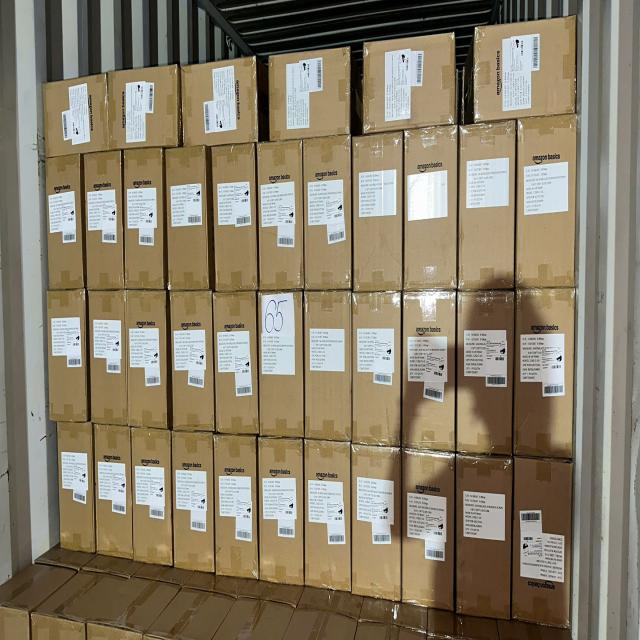Carton: (467, 15, 572, 117), (519, 115, 578, 291), (364, 34, 462, 138), (518, 284, 576, 458), (517, 458, 575, 631), (460, 124, 516, 295), (459, 292, 516, 458), (458, 454, 514, 619), (404, 125, 457, 291), (402, 452, 455, 616), (403, 291, 456, 452), (352, 134, 402, 292), (351, 443, 401, 600), (270, 51, 352, 146), (350, 292, 400, 447), (302, 140, 350, 292), (308, 292, 355, 444), (303, 440, 350, 590), (259, 144, 306, 292), (259, 440, 305, 589), (260, 293, 306, 438), (212, 147, 257, 294), (180, 62, 254, 151), (212, 434, 257, 579), (212, 291, 257, 434), (168, 146, 212, 290), (173, 291, 218, 430), (175, 434, 217, 578), (109, 68, 181, 149), (127, 294, 169, 431), (125, 152, 166, 292), (132, 429, 172, 568), (49, 293, 90, 427), (84, 153, 122, 292), (46, 78, 110, 159), (91, 293, 129, 425), (93, 426, 130, 560), (48, 154, 84, 290), (58, 425, 94, 554)
